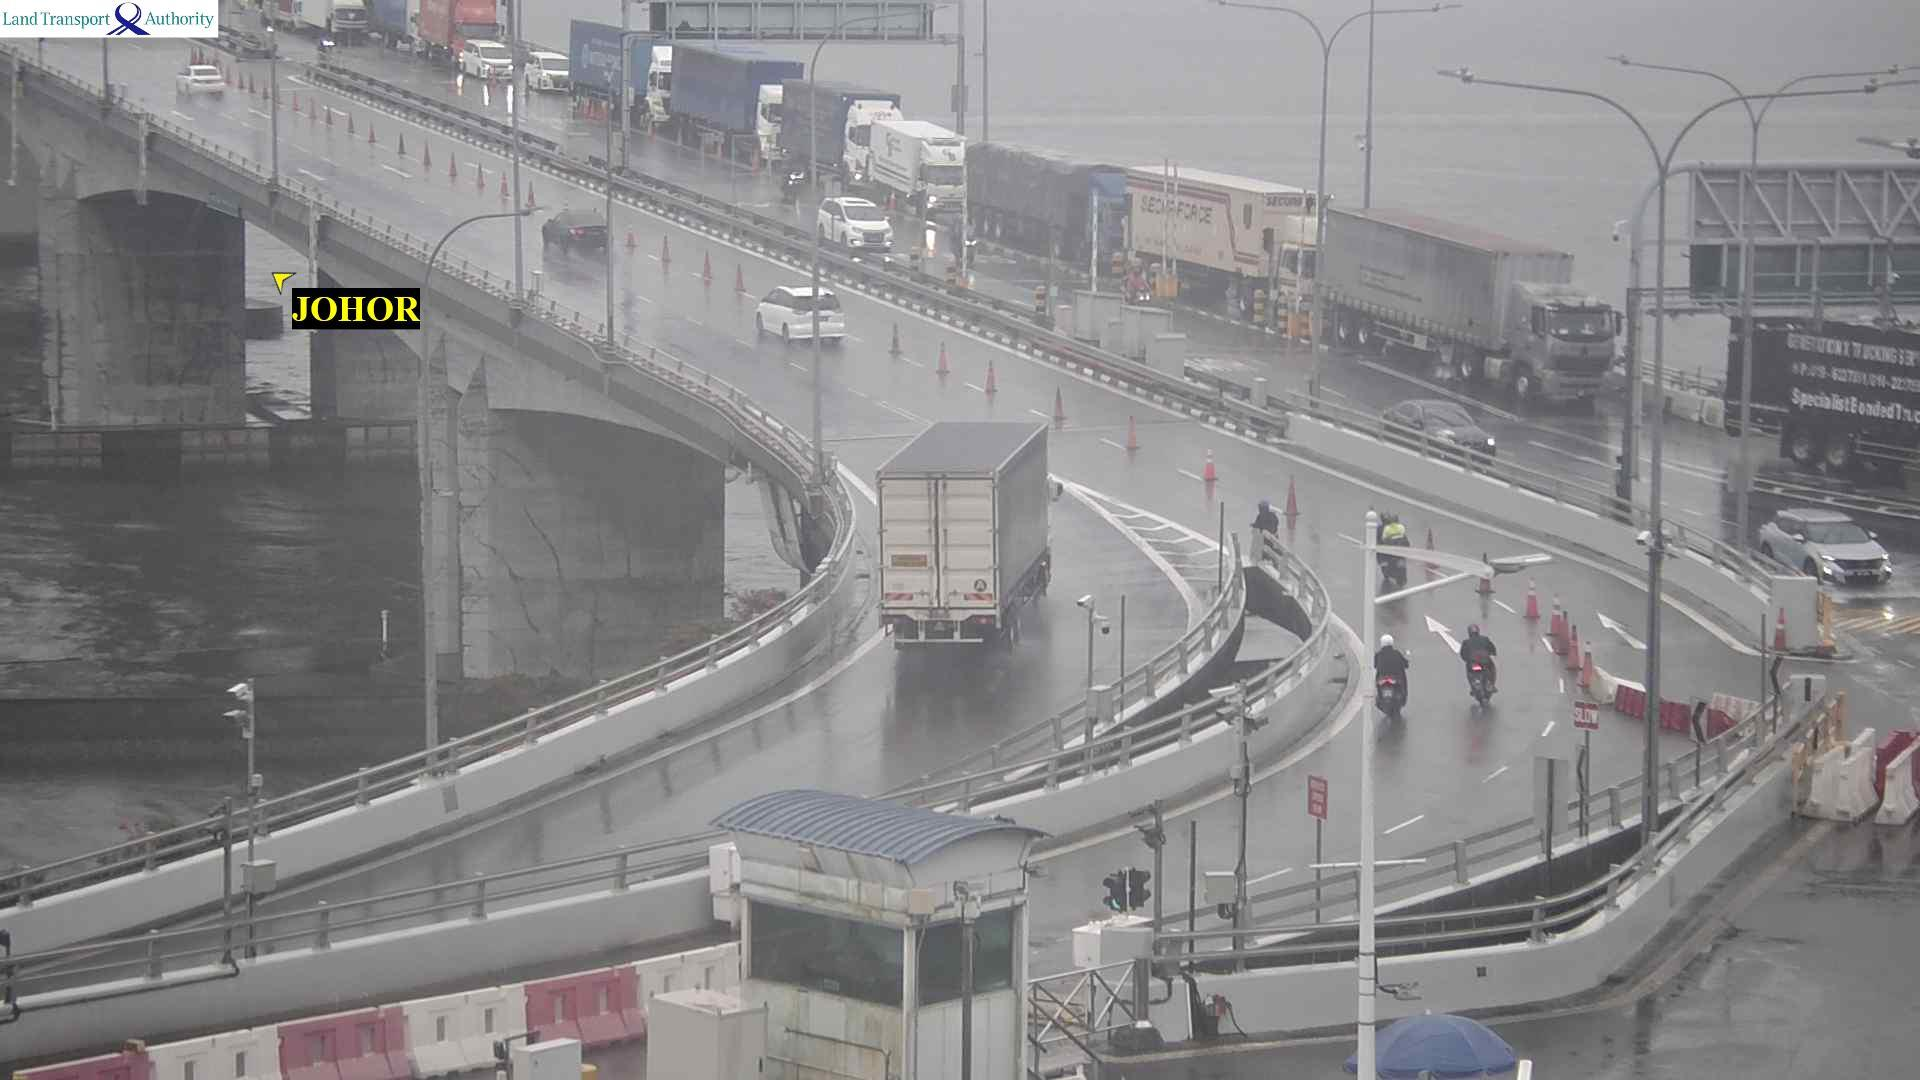vehicle-secondlink-johor: (886, 421, 1050, 644), (761, 287, 849, 343), (1461, 625, 1501, 690), (1371, 637, 1408, 705), (545, 208, 599, 252), (175, 63, 232, 95), (1257, 504, 1279, 547)
vehicle-secondlink-singapore: (1332, 216, 1631, 398), (1127, 160, 1325, 322), (971, 141, 1126, 274), (1796, 305, 1920, 440), (779, 79, 905, 170), (363, 0, 525, 62), (676, 55, 803, 133), (1766, 512, 1898, 584), (575, 18, 682, 105), (873, 124, 963, 208), (1386, 401, 1501, 455), (264, 0, 371, 33), (814, 196, 890, 241), (452, 44, 525, 75), (524, 57, 576, 90)
